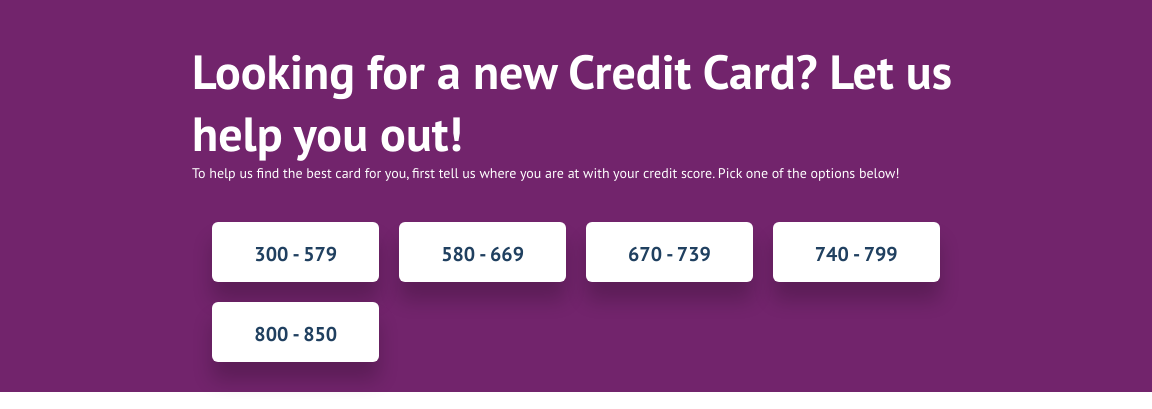
it: CreditCardFinder › goes to next step once score is picked
Click the link with id "good" at (669, 252), box [586,222,753,282]
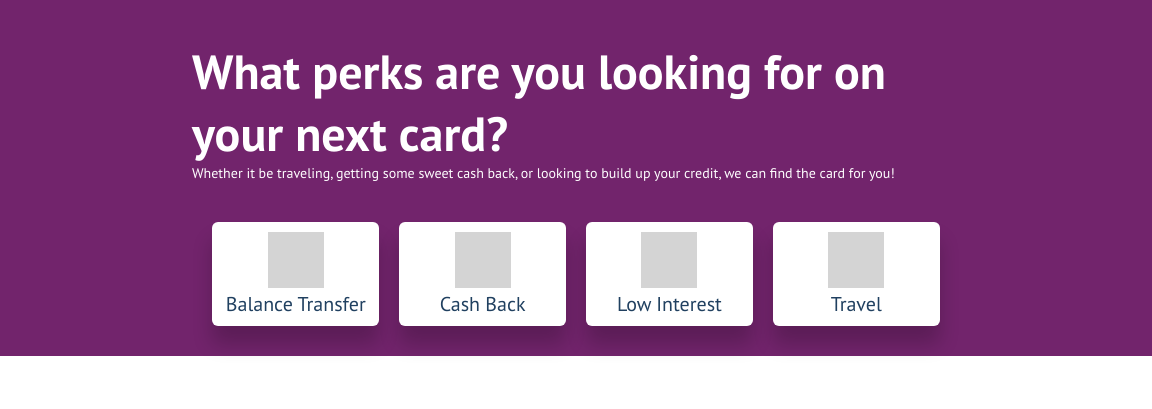
Now the heading with class "title" reads "What perks are you looking for on your next card?", box [192,40,886,164]
